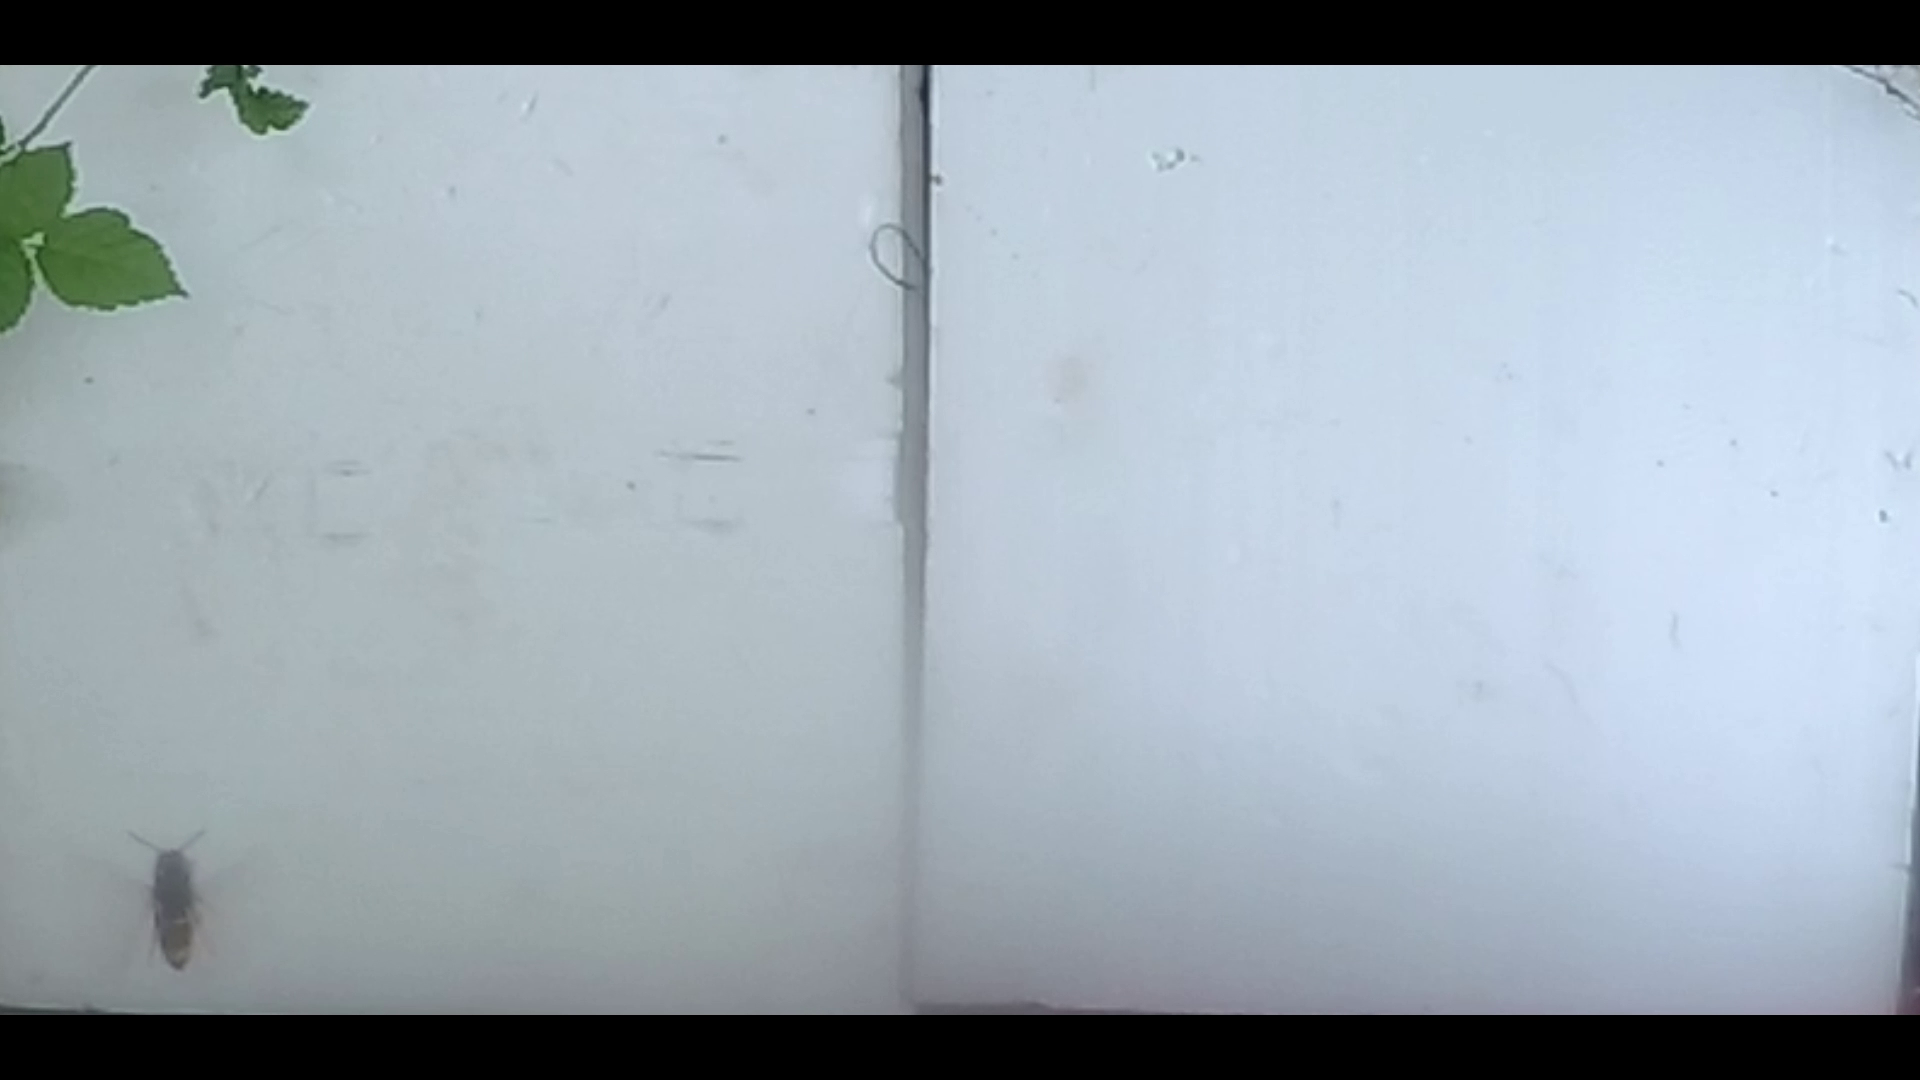Asian_hornets: (111, 821, 249, 984)
